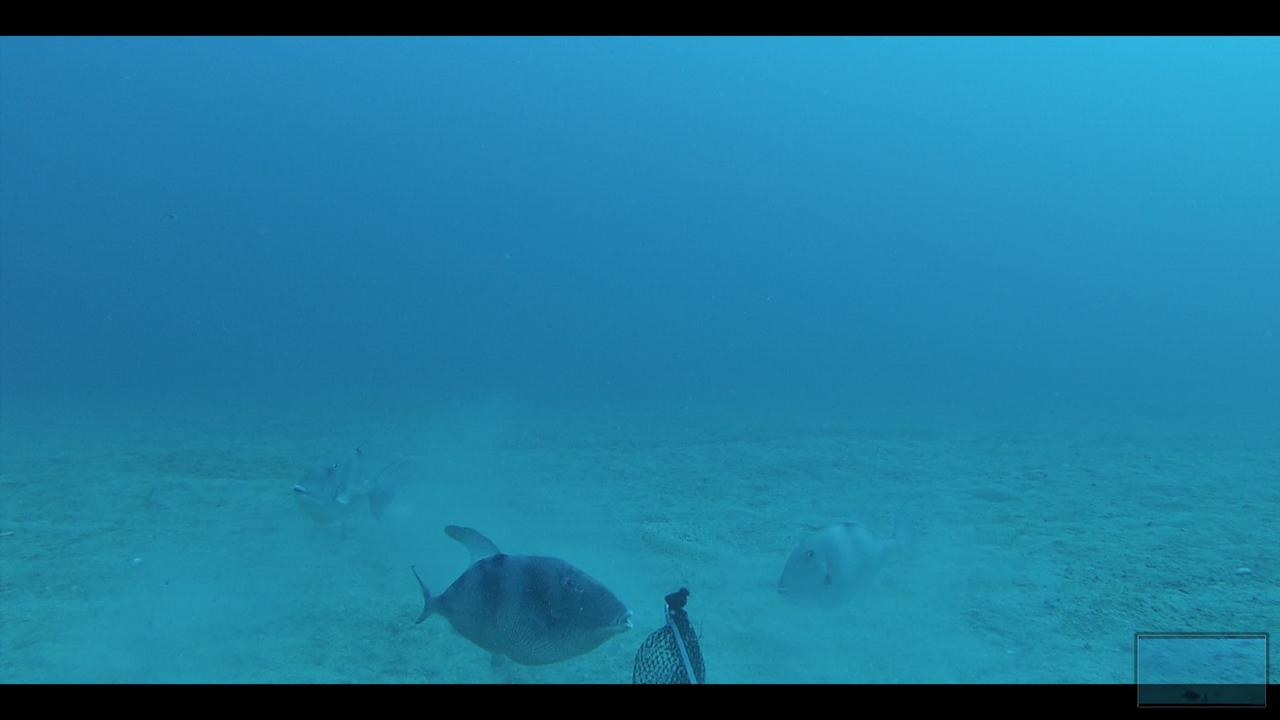balistes: (405, 520, 644, 670), (773, 491, 923, 613), (286, 437, 402, 524)
